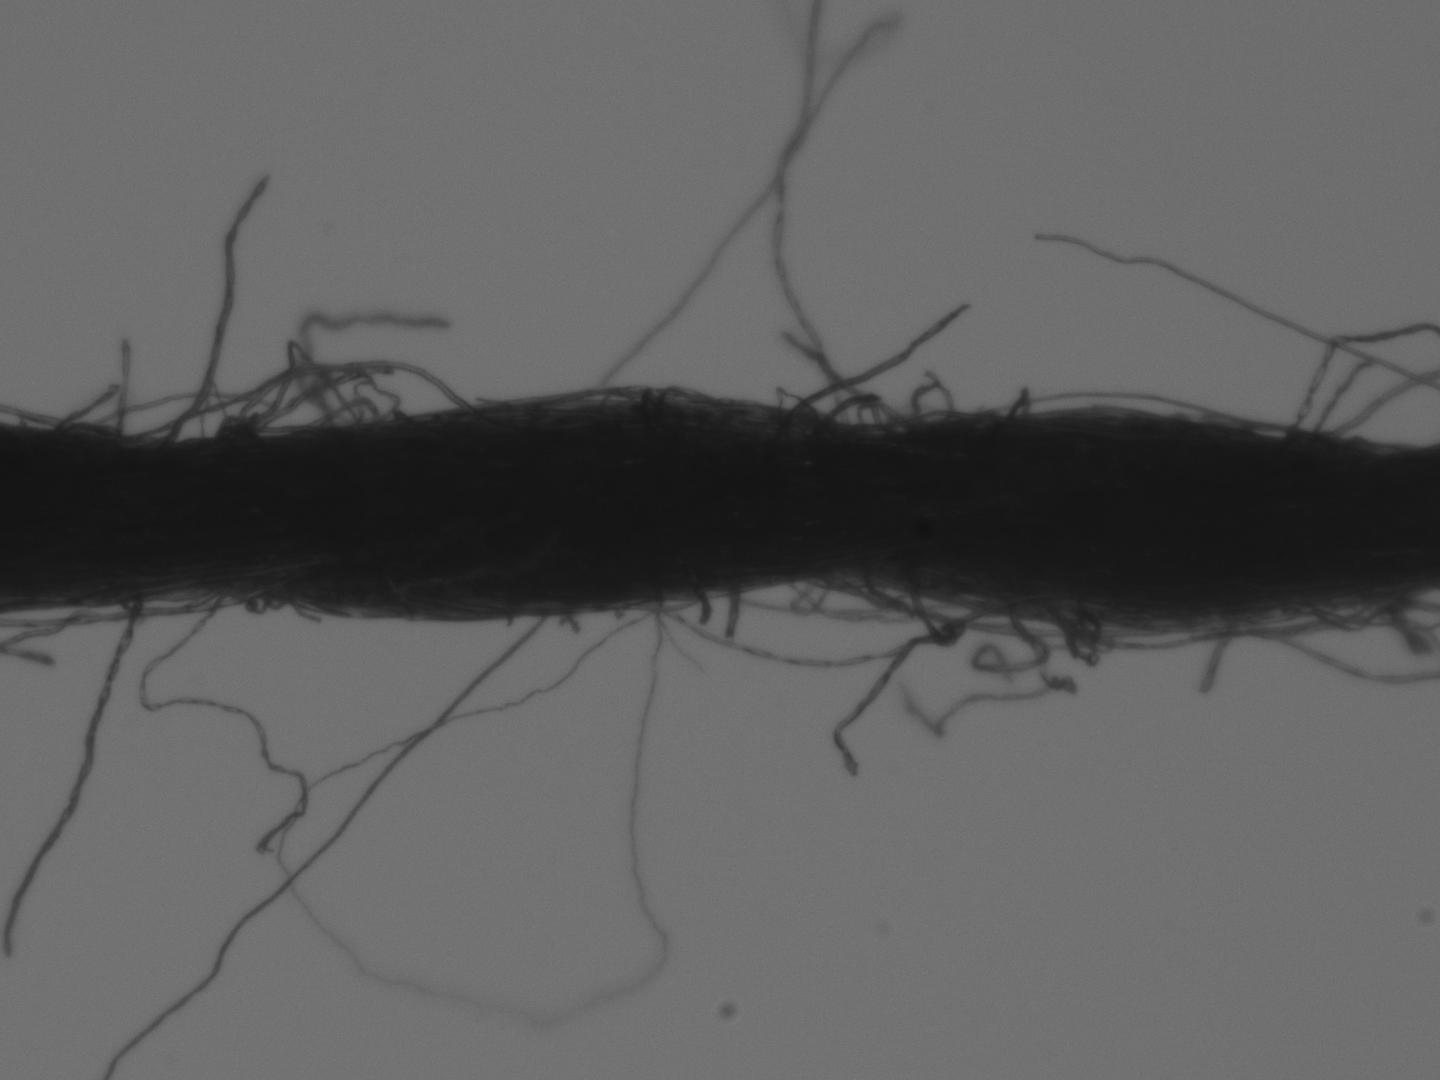loop_fiber: (217, 355, 484, 438), (1033, 601, 1107, 674), (1311, 591, 1414, 640), (308, 391, 382, 431), (855, 395, 909, 438), (954, 404, 1008, 425)
protruding_fiber: (155, 172, 276, 445)
